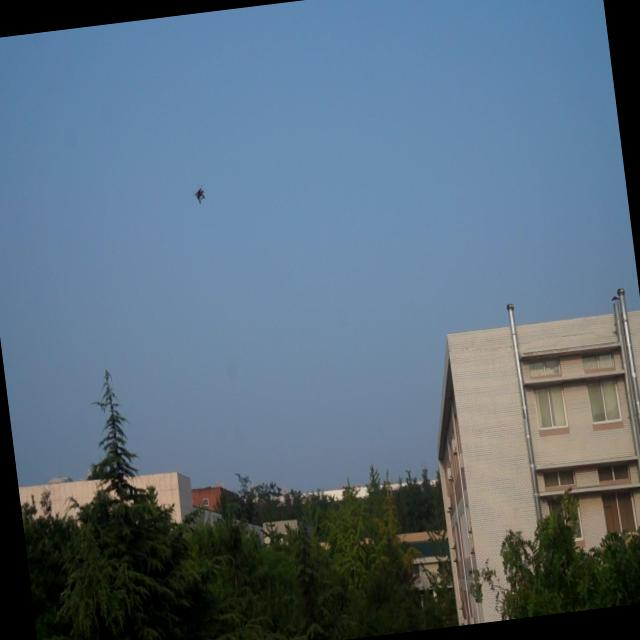drone: (191, 182, 208, 208)
